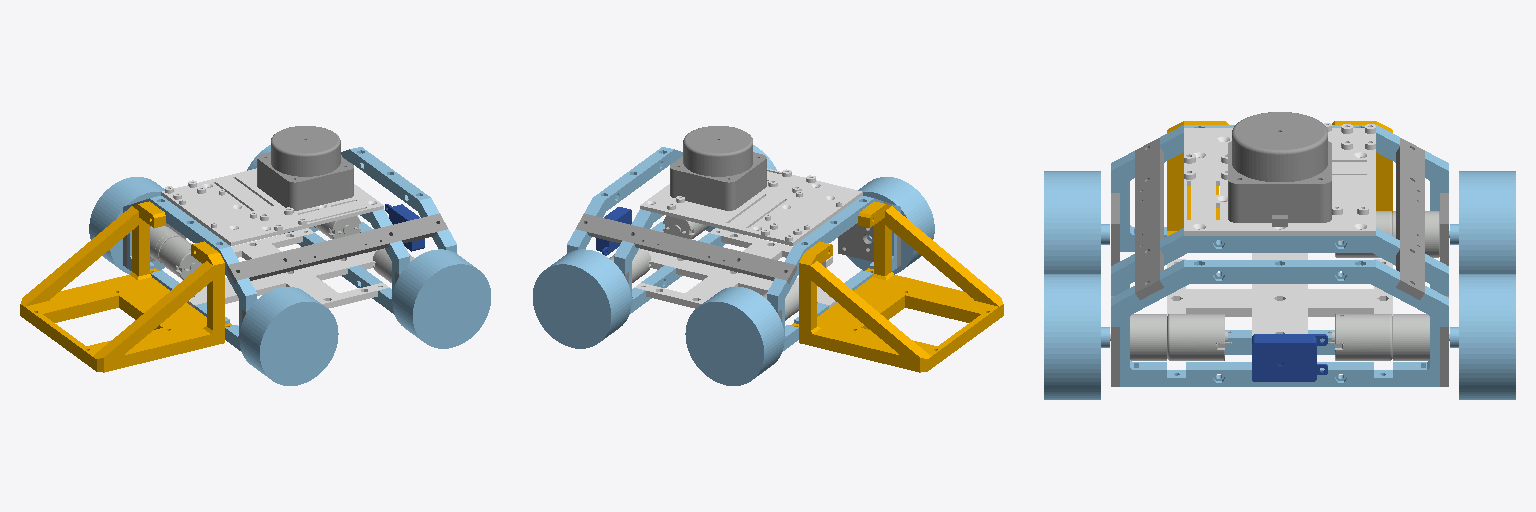
robot.urdf — simplebot2:
<?xml version="1.0" ?>
<!-- Generated using onshape-to-robot -->
<!-- Onshape https://cad.onshape.com/documents/58d69eaf54d5097cb2ee2932/w/94ca09f7b1264f3339bd84c4/e/3159eab8c0fb4f293d9f6567 -->
<robot name="simplebot2">
  <!-- Link bottom_bracket -->
  <link name="bottom_bracket">
    <inertial>
      <origin xyz="0.0758413 0.0254907 -0.00612636" rpy="0 0 0"/>
      <mass value="0.426296"/>
      <inertia ixx="0.00184221" ixy="9.36048e-11" ixz="-1.22606e-12" iyy="0.00190478" iyz="2.8119e-08" izz="0.00332037"/>
    </inertial>
    <!-- Part frame3 -->
    <visual>
      <origin xyz="-0.0091587 0.0254907 -0.0322355" rpy="0 -0 -1.5708"/>
      <geometry>
        <mesh filename="package://assets/frame3.stl"/>
      </geometry>
      <material name="frame3_material">
        <color rgba="0.615686 0.811765 0.929412 1"/>
      </material>
    </visual>
    <collision>
      <origin xyz="-0.0091587 0.0254907 -0.0322355" rpy="0 -0 -1.5708"/>
      <geometry>
        <mesh filename="package://assets/frame3.stl"/>
      </geometry>
    </collision>
    <!-- Part side_bracket_right -->
    <visual>
      <origin xyz="-0.0091587 0.0254907 -0.0322355" rpy="0 -0 -1.5708"/>
      <geometry>
        <mesh filename="package://assets/side_bracket_right.stl"/>
      </geometry>
      <material name="side_bracket_right_material">
        <color rgba="0.647059 0.647059 0.647059 1"/>
      </material>
    </visual>
    <collision>
      <origin xyz="-0.0091587 0.0254907 -0.0322355" rpy="0 -0 -1.5708"/>
      <geometry>
        <mesh filename="package://assets/side_bracket_right.stl"/>
      </geometry>
    </collision>
    <!-- Part frame2 -->
    <visual>
      <origin xyz="-0.0091587 0.0254907 -0.0322355" rpy="0 -0 -1.5708"/>
      <geometry>
        <mesh filename="package://assets/frame2.stl"/>
      </geometry>
      <material name="frame2_material">
        <color rgba="0.615686 0.811765 0.929412 1"/>
      </material>
    </visual>
    <collision>
      <origin xyz="-0.0091587 0.0254907 -0.0322355" rpy="0 -0 -1.5708"/>
      <geometry>
        <mesh filename="package://assets/frame2.stl"/>
      </geometry>
    </collision>
    <!-- Part part_33 -->
    <visual>
      <origin xyz="-0.0091587 0.0254907 -0.0322355" rpy="0 -0 -1.5708"/>
      <geometry>
        <mesh filename="package://assets/part_33.stl"/>
      </geometry>
      <material name="part_33_material">
        <color rgba="0.980392 0.713725 0.00392157 1"/>
      </material>
    </visual>
    <collision>
      <origin xyz="-0.0091587 0.0254907 -0.0322355" rpy="0 -0 -1.5708"/>
      <geometry>
        <mesh filename="package://assets/part_33.stl"/>
      </geometry>
    </collision>
    <!-- Part motor_bracket_front_right -->
    <visual>
      <origin xyz="-0.0091587 0.0254907 -0.0322355" rpy="0 -0 -1.5708"/>
      <geometry>
        <mesh filename="package://assets/motor_bracket_front_right.stl"/>
      </geometry>
      <material name="motor_bracket_front_right_material">
        <color rgba="0.647059 0.647059 0.647059 1"/>
      </material>
    </visual>
    <collision>
      <origin xyz="-0.0091587 0.0254907 -0.0322355" rpy="0 -0 -1.5708"/>
      <geometry>
        <mesh filename="package://assets/motor_bracket_front_right.stl"/>
      </geometry>
    </collision>
    <!-- Part part_1 -->
    <visual>
      <origin xyz="-0.0091587 0.0254907 -0.0322355" rpy="0 -0 -1.5708"/>
      <geometry>
        <mesh filename="package://assets/part_1.stl"/>
      </geometry>
      <material name="part_1_material">
        <color rgba="0.647059 0.647059 0.647059 1"/>
      </material>
    </visual>
    <collision>
      <origin xyz="-0.0091587 0.0254907 -0.0322355" rpy="0 -0 -1.5708"/>
      <geometry>
        <mesh filename="package://assets/part_1.stl"/>
      </geometry>
    </collision>
    <!-- Part motor_bracket_front_left -->
    <visual>
      <origin xyz="-0.0091587 0.0254907 -0.0322355" rpy="0 -0 -1.5708"/>
      <geometry>
        <mesh filename="package://assets/motor_bracket_front_left.stl"/>
      </geometry>
      <material name="motor_bracket_front_left_material">
        <color rgba="0.647059 0.647059 0.647059 1"/>
      </material>
    </visual>
    <collision>
      <origin xyz="-0.0091587 0.0254907 -0.0322355" rpy="0 -0 -1.5708"/>
      <geometry>
        <mesh filename="package://assets/motor_bracket_front_left.stl"/>
      </geometry>
    </collision>
    <!-- Part frame4 -->
    <visual>
      <origin xyz="-0.0091587 0.0254907 -0.0322355" rpy="0 -0 -1.5708"/>
      <geometry>
        <mesh filename="package://assets/frame4.stl"/>
      </geometry>
      <material name="frame4_material">
        <color rgba="0.615686 0.811765 0.929412 1"/>
      </material>
    </visual>
    <collision>
      <origin xyz="-0.0091587 0.0254907 -0.0322355" rpy="0 -0 -1.5708"/>
      <geometry>
        <mesh filename="package://assets/frame4.stl"/>
      </geometry>
    </collision>
    <!-- Part motor_bracket_rear_left -->
    <visual>
      <origin xyz="-0.0091587 0.0254907 -0.0322355" rpy="0 -0 -1.5708"/>
      <geometry>
        <mesh filename="package://assets/motor_bracket_rear_left.stl"/>
      </geometry>
      <material name="motor_bracket_rear_left_material">
        <color rgba="0.647059 0.647059 0.647059 1"/>
      </material>
    </visual>
    <collision>
      <origin xyz="-0.0091587 0.0254907 -0.0322355" rpy="0 -0 -1.5708"/>
      <geometry>
        <mesh filename="package://assets/motor_bracket_rear_left.stl"/>
      </geometry>
    </collision>
    <!-- Part part_1_2 -->
    <visual>
      <origin xyz="-0.0091587 0.0254907 -0.0322355" rpy="-6.16298e-33 -0 -1.5708"/>
      <geometry>
        <mesh filename="package://assets/part_1__2.stl"/>
      </geometry>
      <material name="part_1_2_material">
        <color rgba="0.231373 0.380392 0.705882 1"/>
      </material>
    </visual>
    <collision>
      <origin xyz="-0.0091587 0.0254907 -0.0322355" rpy="-6.16298e-33 -0 -1.5708"/>
      <geometry>
        <mesh filename="package://assets/part_1__2.stl"/>
      </geometry>
    </collision>
    <!-- Part part_22 -->
    <visual>
      <origin xyz="-0.0091587 0.0254907 -0.0322355" rpy="0 -0 -1.5708"/>
      <geometry>
        <mesh filename="package://assets/part_22.stl"/>
      </geometry>
      <material name="part_22_material">
        <color rgba="0.917647 0.917647 0.917647 1"/>
      </material>
    </visual>
    <collision>
      <origin xyz="-0.0091587 0.0254907 -0.0322355" rpy="0 -0 -1.5708"/>
      <geometry>
        <mesh filename="package://assets/part_22.stl"/>
      </geometry>
    </collision>
    <!-- Part motor_bracket_rear_right -->
    <visual>
      <origin xyz="-0.0091587 0.0254907 -0.0322355" rpy="0 -0 -1.5708"/>
      <geometry>
        <mesh filename="package://assets/motor_bracket_rear_right.stl"/>
      </geometry>
      <material name="motor_bracket_rear_right_material">
        <color rgba="0.647059 0.647059 0.647059 1"/>
      </material>
    </visual>
    <collision>
      <origin xyz="-0.0091587 0.0254907 -0.0322355" rpy="0 -0 -1.5708"/>
      <geometry>
        <mesh filename="package://assets/motor_bracket_rear_right.stl"/>
      </geometry>
    </collision>
    <!-- Part frame1 -->
    <visual>
      <origin xyz="-0.0091587 0.0254907 -0.0322355" rpy="0 -0 -1.5708"/>
      <geometry>
        <mesh filename="package://assets/frame1.stl"/>
      </geometry>
      <material name="frame1_material">
        <color rgba="0.615686 0.811765 0.929412 1"/>
      </material>
    </visual>
    <collision>
      <origin xyz="-0.0091587 0.0254907 -0.0322355" rpy="0 -0 -1.5708"/>
      <geometry>
        <mesh filename="package://assets/frame1.stl"/>
      </geometry>
    </collision>
    <!-- Part side_bracket_left -->
    <visual>
      <origin xyz="-0.0091587 0.0254907 -0.0322355" rpy="0 -0 -1.5708"/>
      <geometry>
        <mesh filename="package://assets/side_bracket_left.stl"/>
      </geometry>
      <material name="side_bracket_left_material">
        <color rgba="0.647059 0.647059 0.647059 1"/>
      </material>
    </visual>
    <collision>
      <origin xyz="-0.0091587 0.0254907 -0.0322355" rpy="0 -0 -1.5708"/>
      <geometry>
        <mesh filename="package://assets/side_bracket_left.stl"/>
      </geometry>
    </collision>
    <!-- Part motor_front_right -->
    <visual>
      <origin xyz="0.123341 0.0254907 0.135265" rpy="-1.5708 -0 -1.5708"/>
      <geometry>
        <mesh filename="package://assets/motor_front_right.stl"/>
      </geometry>
      <material name="motor_front_right_material">
        <color rgba="0.8 0.807843 0.8 1"/>
      </material>
    </visual>
    <collision>
      <origin xyz="0.123341 0.0254907 0.135265" rpy="-1.5708 -0 -1.5708"/>
      <geometry>
        <mesh filename="package://assets/motor_front_right.stl"/>
      </geometry>
    </collision>
    <!-- Part motor_rear_left -->
    <visual>
      <origin xyz="-0.0066587 0.0254907 0.00526451" rpy="-1.5708 -0 -1.5708"/>
      <geometry>
        <mesh filename="package://assets/motor_rear_left.stl"/>
      </geometry>
      <material name="motor_rear_left_material">
        <color rgba="0.8 0.807843 0.8 1"/>
      </material>
    </visual>
    <collision>
      <origin xyz="-0.0066587 0.0254907 0.00526451" rpy="-1.5708 -0 -1.5708"/>
      <geometry>
        <mesh filename="package://assets/motor_rear_left.stl"/>
      </geometry>
    </collision>
    <!-- Part motor_rear_right -->
    <visual>
      <origin xyz="0.0283413 0.0254907 -0.0347355" rpy="1.5708 -0 -1.5708"/>
      <geometry>
        <mesh filename="package://assets/motor_rear_right.stl"/>
      </geometry>
      <material name="motor_rear_right_material">
        <color rgba="0.8 0.807843 0.8 1"/>
      </material>
    </visual>
    <collision>
      <origin xyz="0.0283413 0.0254907 -0.0347355" rpy="1.5708 -0 -1.5708"/>
      <geometry>
        <mesh filename="package://assets/motor_rear_right.stl"/>
      </geometry>
    </collision>
    <!-- Part bottom_bracket -->
    <visual>
      <origin xyz="-0.0091587 0.0254907 -0.0322355" rpy="0 -0 -1.5708"/>
      <geometry>
        <mesh filename="package://assets/bottom_bracket.stl"/>
      </geometry>
      <material name="bottom_bracket_material">
        <color rgba="0.917647 0.917647 0.917647 1"/>
      </material>
    </visual>
    <collision>
      <origin xyz="-0.0091587 0.0254907 -0.0322355" rpy="0 -0 -1.5708"/>
      <geometry>
        <mesh filename="package://assets/bottom_bracket.stl"/>
      </geometry>
    </collision>
    <!-- Part part_27 -->
    <visual>
      <origin xyz="-0.0091587 0.0254907 -0.0346755" rpy="0 -0 -1.5708"/>
      <geometry>
        <mesh filename="package://assets/part_27.stl"/>
      </geometry>
      <material name="part_27_material">
        <color rgba="0.980392 0.713725 0.00392157 1"/>
      </material>
    </visual>
    <collision>
      <origin xyz="-0.0091587 0.0254907 -0.0346755" rpy="0 -0 -1.5708"/>
      <geometry>
        <mesh filename="package://assets/part_27.stl"/>
      </geometry>
    </collision>
    <!-- Part motor_front_left -->
    <visual>
      <origin xyz="0.158341 0.0254907 -0.164735" rpy="1.5708 -0 -1.5708"/>
      <geometry>
        <mesh filename="package://assets/motor_front_left.stl"/>
      </geometry>
      <material name="motor_front_left_material">
        <color rgba="0.8 0.807843 0.8 1"/>
      </material>
    </visual>
    <collision>
      <origin xyz="0.158341 0.0254907 -0.164735" rpy="1.5708 -0 -1.5708"/>
      <geometry>
        <mesh filename="package://assets/motor_front_left.stl"/>
      </geometry>
    </collision>
  </link>
  <!-- Link part_1 -->
  <link name="part_1">
    <inertial>
      <origin xyz="0 0 0" rpy="0 0 0"/>
      <mass value="1e-09"/>
      <inertia ixx="1e-09" ixy="0" ixz="0" iyy="1e-09" iyz="0" izz="1e-09"/>
    </inertial>
    <!-- Part part_1_3 -->
    <visual>
      <origin xyz="1.73472e-18 0 0.0075" rpy="1.5708 1.5708 0"/>
      <geometry>
        <mesh filename="package://assets/part_1__3.stl"/>
      </geometry>
      <material name="part_1_3_material">
        <color rgba="0.615686 0.811765 0.929412 1"/>
      </material>
    </visual>
    <collision>
      <origin xyz="1.73472e-18 0 0.0075" rpy="1.5708 1.5708 0"/>
      <geometry>
        <mesh filename="package://assets/part_1__3.stl"/>
      </geometry>
    </collision>
  </link>
  <!-- Joint from bottom_bracket to part_1 -->
  <joint name="Revolute 1" type="revolute">
    <origin xyz="0.0108413 -0.0775176 -0.0147355" rpy="-1.5708 -0 -1.66533e-16"/>
    <parent link="bottom_bracket"/>
    <child link="part_1"/>
    <axis xyz="0 0 1"/>
    <limit effort="10" velocity="10" lower="-3.141592653589793" upper="3.141592653589793"/>
  </joint>
  <!-- Link part_1_2 -->
  <link name="part_1_2">
    <inertial>
      <origin xyz="0 0 0" rpy="0 0 0"/>
      <mass value="1e-09"/>
      <inertia ixx="1e-09" ixy="0" ixz="0" iyy="1e-09" iyz="0" izz="1e-09"/>
    </inertial>
    <!-- Part part_1_4 -->
    <visual>
      <origin xyz="0 0 0.0075" rpy="1.5708 1.5708 0"/>
      <geometry>
        <mesh filename="package://assets/part_1__3.stl"/>
      </geometry>
      <material name="part_1_4_material">
        <color rgba="0.615686 0.811765 0.929412 1"/>
      </material>
    </visual>
    <collision>
      <origin xyz="0 0 0.0075" rpy="1.5708 1.5708 0"/>
      <geometry>
        <mesh filename="package://assets/part_1__3.stl"/>
      </geometry>
    </collision>
  </link>
  <!-- Joint from bottom_bracket to part_1_2 -->
  <joint name="Revolute 2" type="revolute">
    <origin xyz="0.140841 -0.0775176 -0.0147355" rpy="-1.5708 -0 -1.66533e-16"/>
    <parent link="bottom_bracket"/>
    <child link="part_1_2"/>
    <axis xyz="0 0 1"/>
    <limit effort="10" velocity="10" lower="-3.141592653589793" upper="3.141592653589793"/>
  </joint>
  <!-- Link part_1_3 -->
  <link name="part_1_3">
    <inertial>
      <origin xyz="0 0 0" rpy="0 0 0"/>
      <mass value="1e-09"/>
      <inertia ixx="1e-09" ixy="0" ixz="0" iyy="1e-09" iyz="0" izz="1e-09"/>
    </inertial>
    <!-- Part part_1_5 -->
    <visual>
      <origin xyz="0 0 -0.0075" rpy="-1.5708 -1.5708 0"/>
      <geometry>
        <mesh filename="package://assets/part_1__3.stl"/>
      </geometry>
      <material name="part_1_5_material">
        <color rgba="0.615686 0.811765 0.929412 1"/>
      </material>
    </visual>
    <collision>
      <origin xyz="0 0 -0.0075" rpy="-1.5708 -1.5708 0"/>
      <geometry>
        <mesh filename="package://assets/part_1__3.stl"/>
      </geometry>
    </collision>
  </link>
  <!-- Joint from bottom_bracket to part_1_3 -->
  <joint name="Revolute 3" type="revolute">
    <origin xyz="0.140841 0.128499 -0.0147355" rpy="-1.5708 -0 -1.66533e-16"/>
    <parent link="bottom_bracket"/>
    <child link="part_1_3"/>
    <axis xyz="0 0 1"/>
    <limit effort="10" velocity="10" lower="-3.141592653589793" upper="3.141592653589793"/>
  </joint>
  <!-- Link part_1_4 -->
  <link name="part_1_4">
    <inertial>
      <origin xyz="0 0 0" rpy="0 0 0"/>
      <mass value="1e-09"/>
      <inertia ixx="1e-09" ixy="0" ixz="0" iyy="1e-09" iyz="0" izz="1e-09"/>
    </inertial>
    <!-- Part part_1_6 -->
    <visual>
      <origin xyz="-1.73472e-18 0 -0.0075" rpy="-1.5708 -1.5708 0"/>
      <geometry>
        <mesh filename="package://assets/part_1__3.stl"/>
      </geometry>
      <material name="part_1_6_material">
        <color rgba="0.615686 0.811765 0.929412 1"/>
      </material>
    </visual>
    <collision>
      <origin xyz="-1.73472e-18 0 -0.0075" rpy="-1.5708 -1.5708 0"/>
      <geometry>
        <mesh filename="package://assets/part_1__3.stl"/>
      </geometry>
    </collision>
  </link>
  <!-- Joint from bottom_bracket to part_1_4 -->
  <joint name="Revolute 4" type="revolute">
    <origin xyz="0.0108413 0.128499 -0.0147355" rpy="-1.5708 -0 -1.66533e-16"/>
    <parent link="bottom_bracket"/>
    <child link="part_1_4"/>
    <axis xyz="0 0 1"/>
    <limit effort="10" velocity="10" lower="-3.141592653589793" upper="3.141592653589793"/>
  </joint>
</robot>

--- Facts derived from the render (not from the file) ---
The picture shows the robot from 3 angles, left to right: view 1: azimuth 30°, elevation 25°; view 2: azimuth 150°, elevation 25°; view 3: azimuth 270°, elevation 25°; orthographic projection.
Model simplebot2 with 5 links and 4 joints (4 revolute), rooted at bottom_bracket, posed every joint at zero.
Visible links, largest first — view 1: bottom_bracket, part_1, part_1_2, part_1_4; view 2: bottom_bracket, part_1_4, part_1_3, part_1; view 3: bottom_bracket, part_1_2, part_1_3, part_1, part_1_4.
Boxes of the visible links, bbox=[...] form: bottom_bracket: bbox=[20, 126, 456, 372]; part_1: bbox=[239, 287, 338, 385]; part_1_2: bbox=[392, 249, 490, 348]; part_1_4: bbox=[89, 177, 164, 274]; bottom_bracket: bbox=[567, 126, 1003, 372]; part_1_4: bbox=[685, 287, 784, 385]; part_1_3: bbox=[533, 249, 631, 348]; part_1: bbox=[847, 177, 934, 274]; bottom_bracket: bbox=[1110, 112, 1449, 386]; part_1_2: bbox=[1044, 274, 1109, 399]; part_1_3: bbox=[1450, 274, 1515, 399]; part_1: bbox=[1044, 171, 1109, 273]; part_1_4: bbox=[1450, 171, 1515, 273].
Bounding box of the posed robot: 0.3025 × 0.251 × 0.1305 m (x, y, z).
21 mesh visuals loaded from 21 distinct referenced files (18 binary STL); not drawn: 3 (reference not matched to a file when rendering).